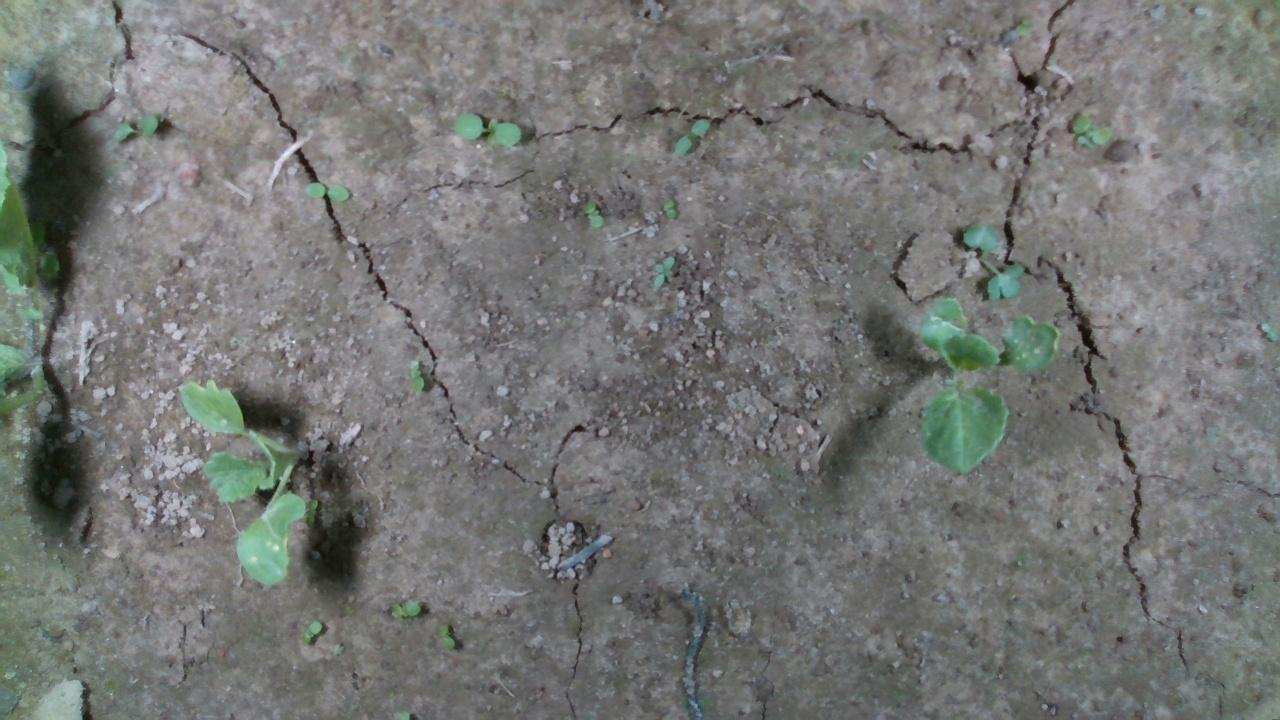weed: (959, 217, 1025, 300), (453, 110, 523, 145), (671, 115, 711, 158), (112, 113, 159, 141), (303, 179, 350, 203), (651, 254, 675, 289), (387, 596, 421, 619), (298, 618, 323, 646), (581, 199, 603, 229), (405, 360, 423, 394), (1010, 12, 1033, 37), (437, 620, 455, 650), (660, 197, 676, 220)
